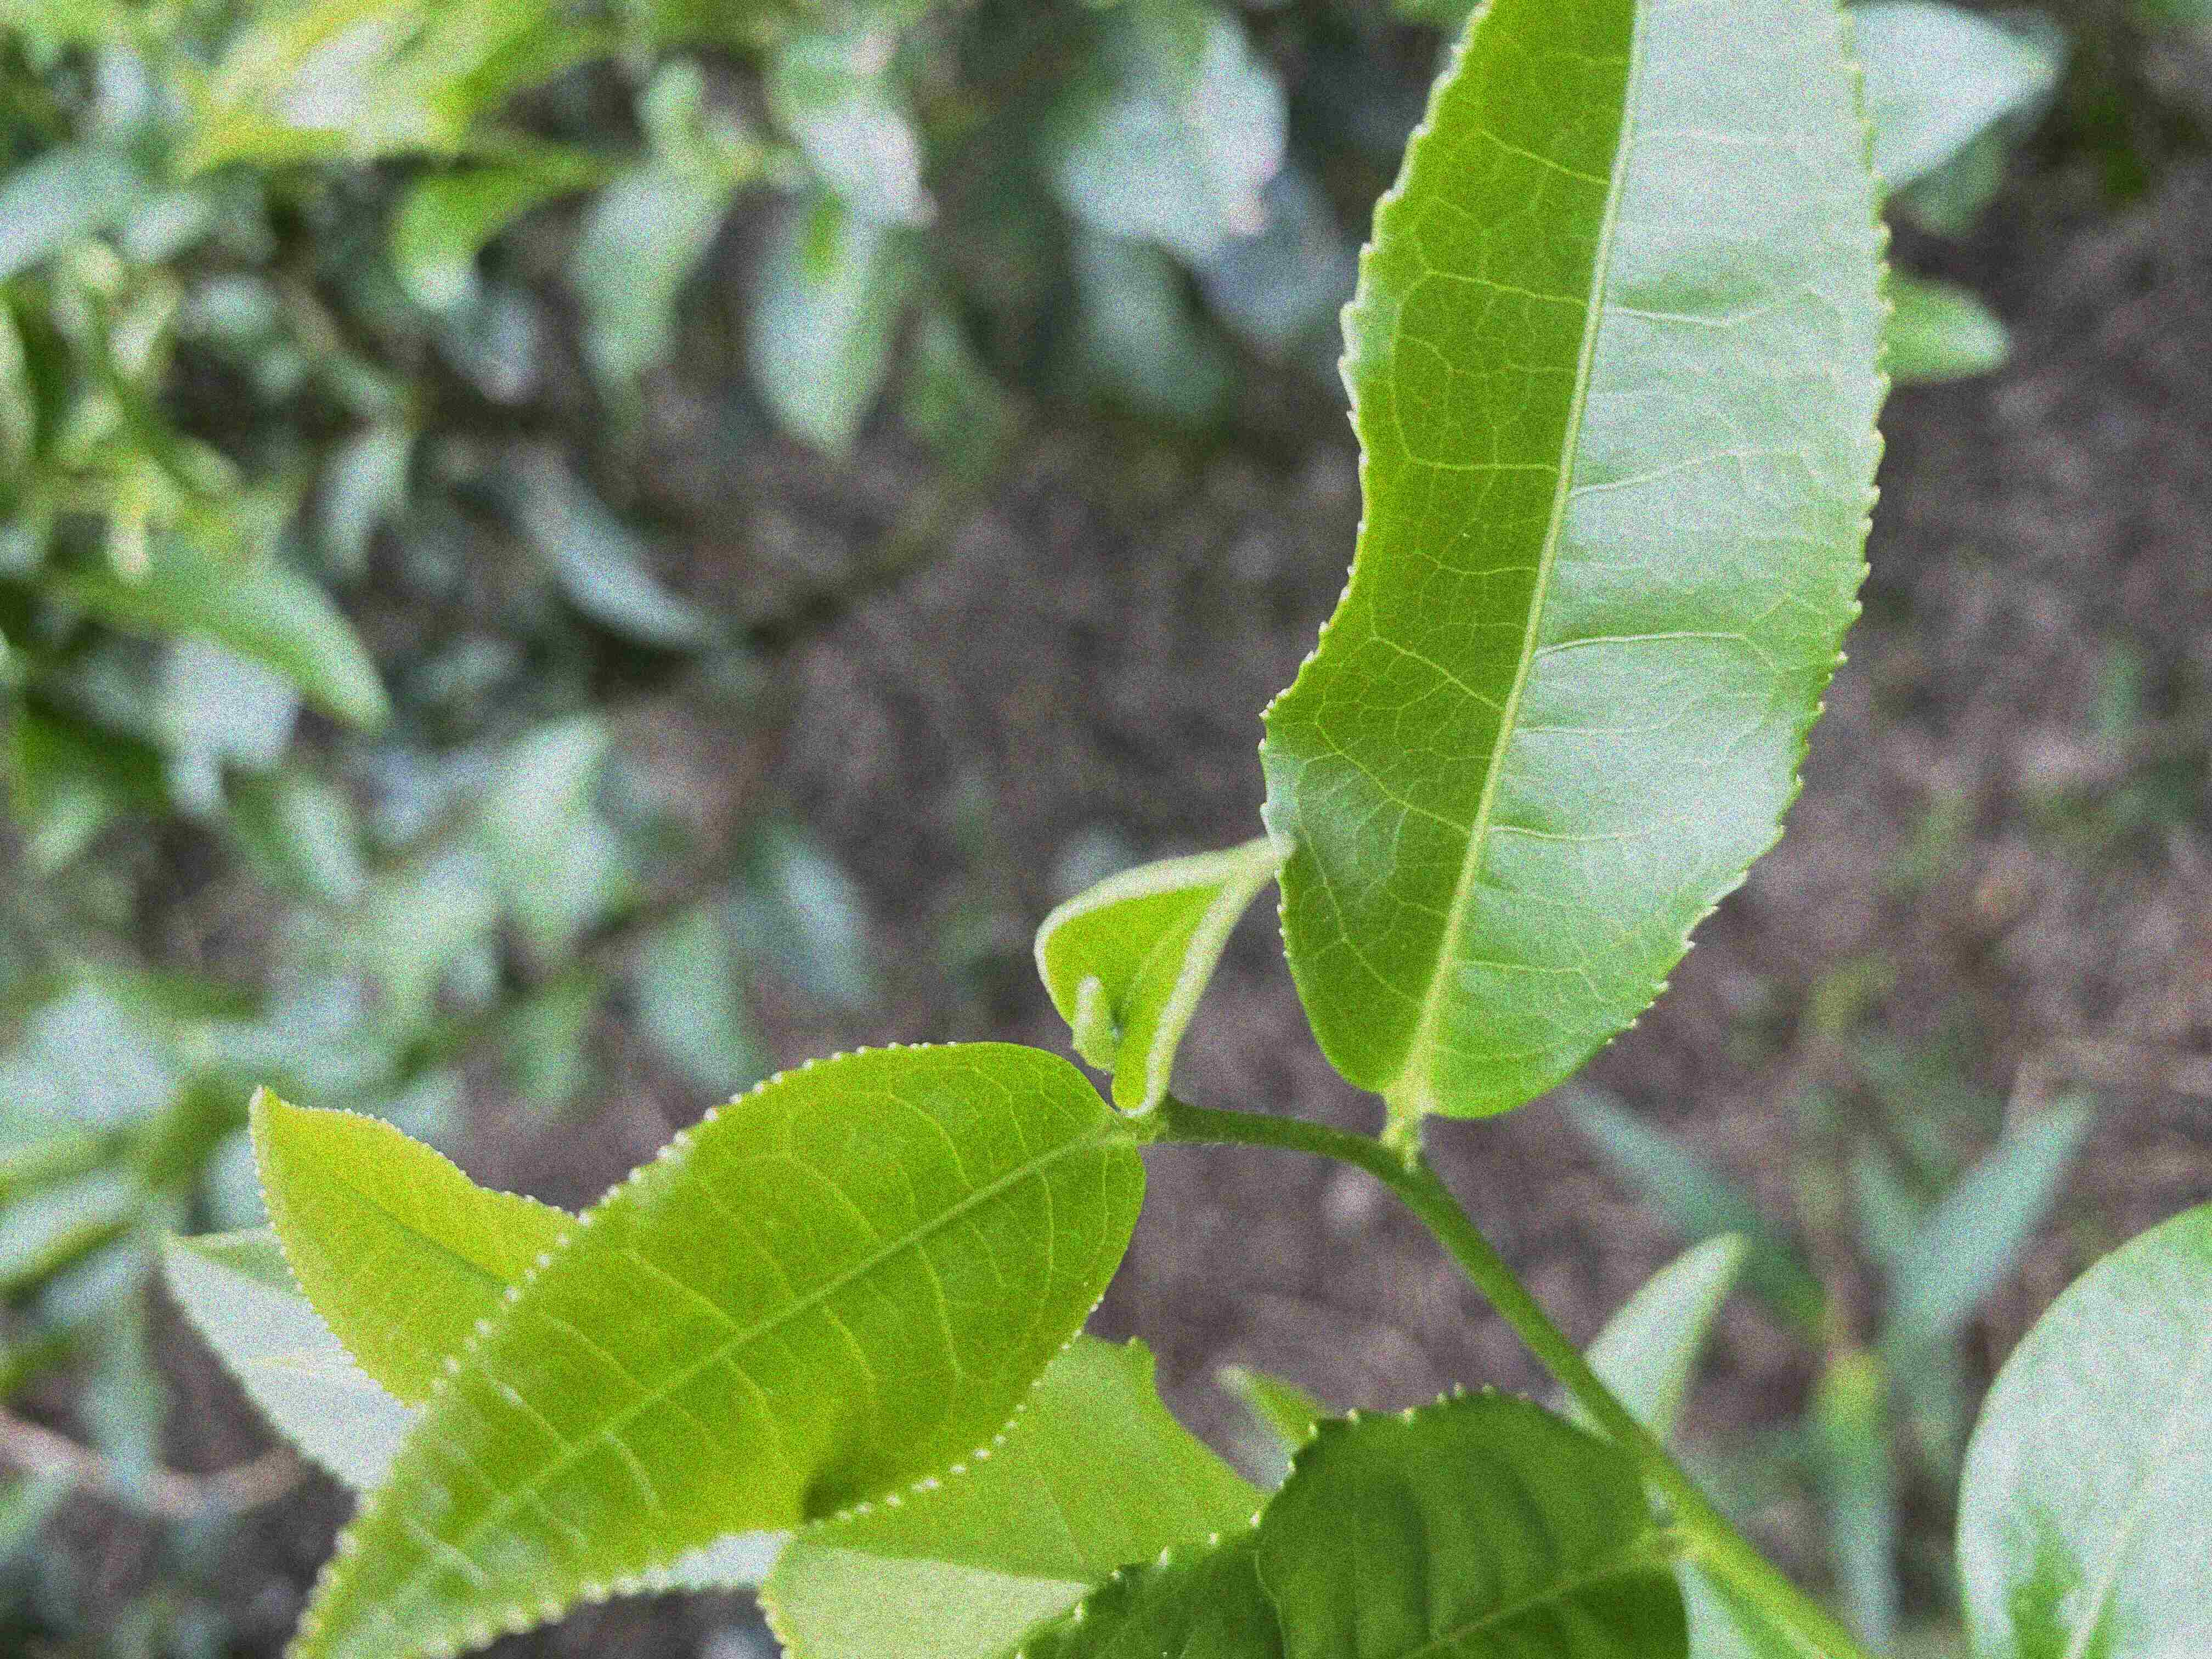healthy: (1252, 3, 1895, 1122), (294, 1035, 1141, 1657)
